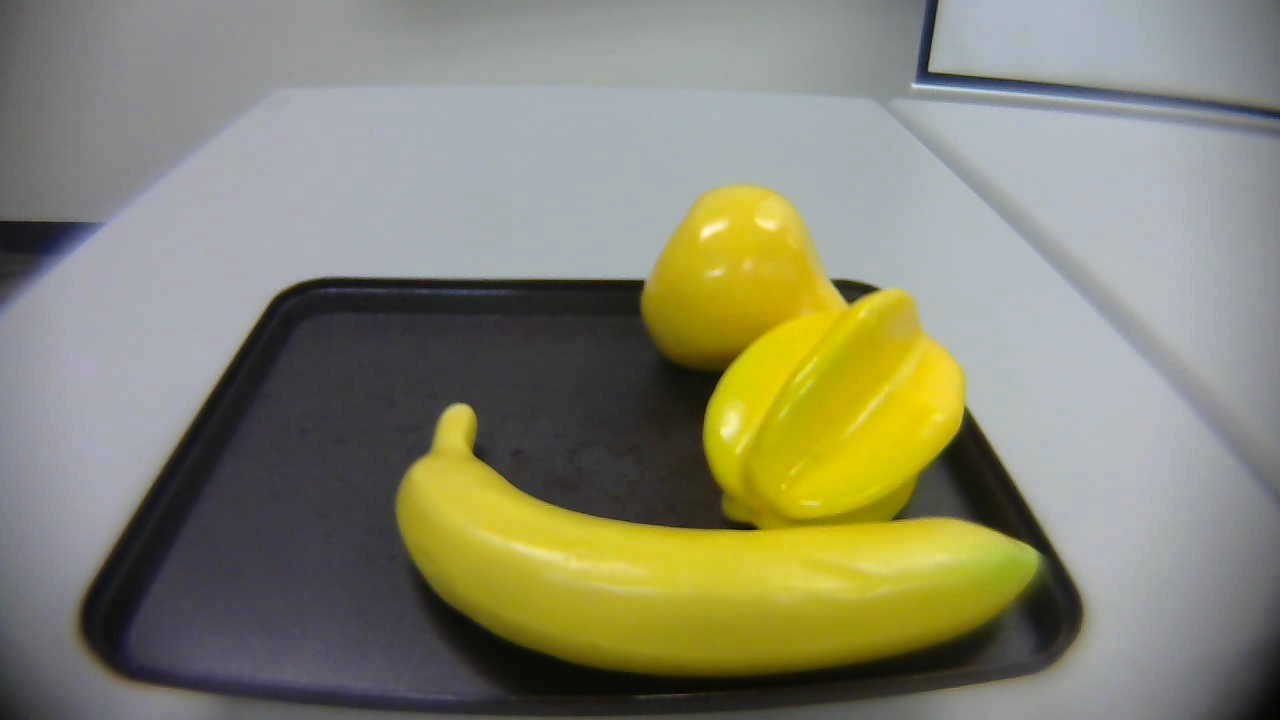banana: (383, 393, 1061, 679)
star fruit: (694, 283, 974, 529)
yellow pear: (630, 179, 860, 375)
